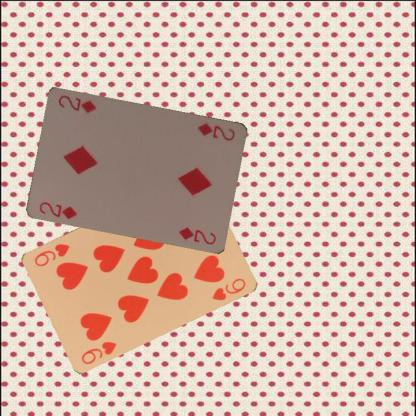2d: (195, 120, 237, 142), (37, 199, 79, 220)
9h: (78, 338, 118, 365)
